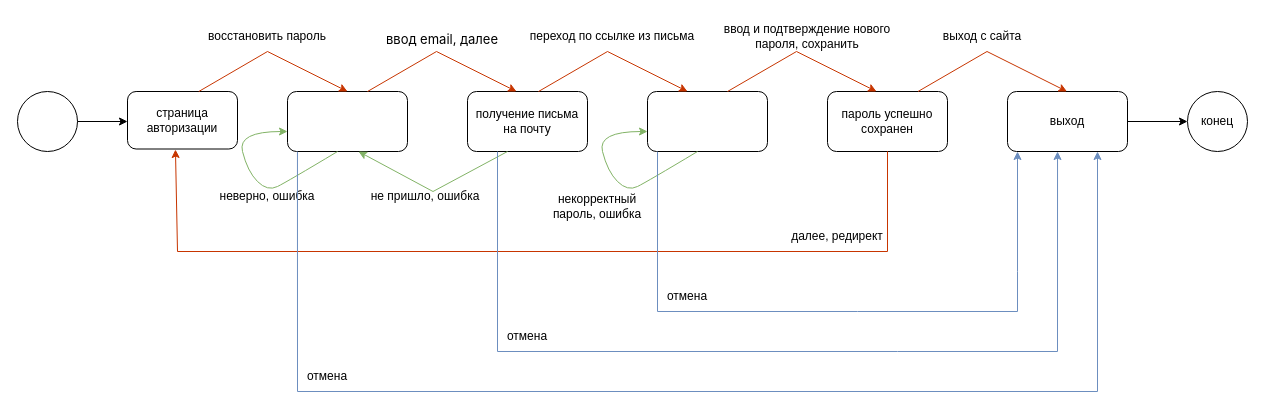
Image size: 1265x417. Some labels were removed from this diagram. Each missing label, with the centre of its shape:
"ввод нового пароля" belongs at (707,121).
"начало" belongs at (47,121).
"поле ввода email" belongs at (347,121).
